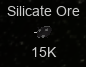Silicate: (6, 4, 80, 58)
